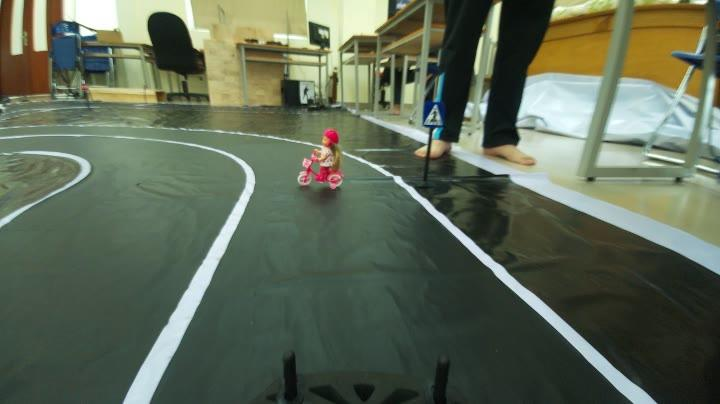crosswalk: (417, 96, 448, 133)
pedestrian: (293, 130, 350, 190)
